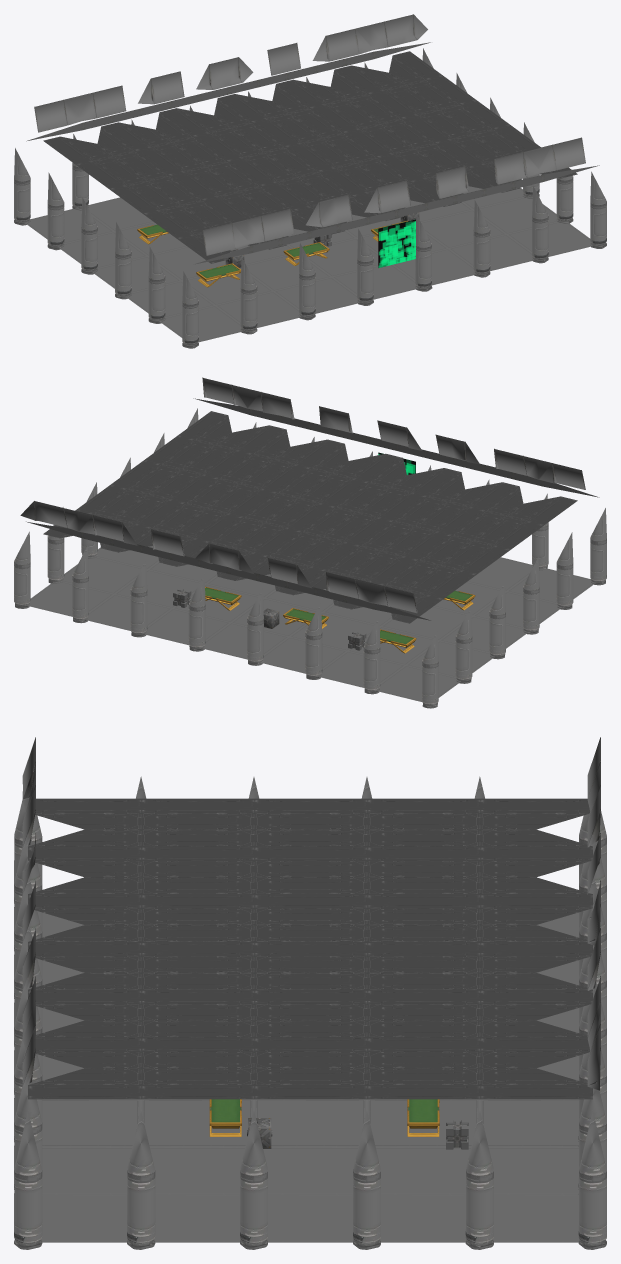
Rendered from sc-market-lod1.glb.
3 renders of one model, top to bottom at view 1: azimuth 30°, elevation 25°; view 2: azimuth 150°, elevation 25°; view 3: azimuth 270°, elevation 25°, orthographic. The views are drawn at different scales.
Parts seen in each view (by area): view 1: sc-market; view 2: sc-market; view 3: sc-market.
Part boxes in pixels (left/top/right/bottom): sc-market: left=14, top=14, right=606, bottom=348; sc-market: left=14, top=377, right=606, bottom=708; sc-market: left=14, top=737, right=606, bottom=1249.
Bounding box in the file's own units: 29 × 7.22 × 21.
Materials: 4 (4 with a texture image).
